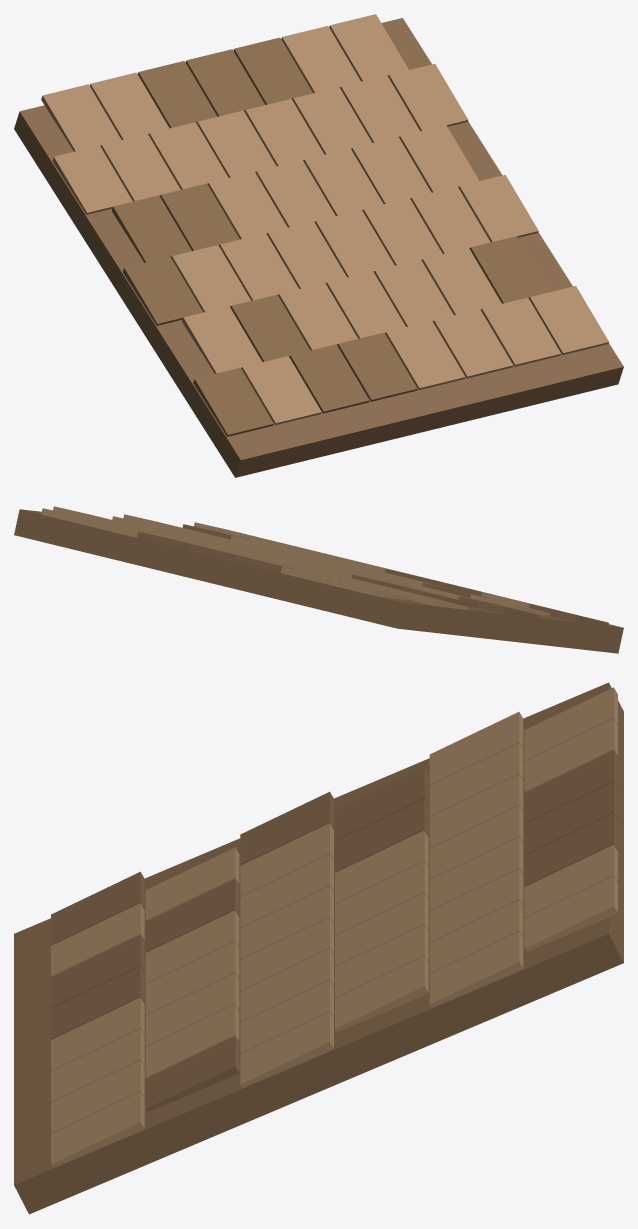
Rendered from SM_Roof_Shingle.glb.
3 views of the same model, one above another, from view 1: azimuth 30°, elevation 25°; view 2: azimuth 150°, elevation 25°; view 3: azimuth 270°, elevation 25° (orthographic). The views are drawn at different scales.
Visible parts, largest first — view 1: SM_Roof_Shingle; view 2: SM_Roof_Shingle; view 3: SM_Roof_Shingle.
Boxes of the visible parts, left/top/right/bottom form: SM_Roof_Shingle: left=14, top=14, right=623, bottom=477; SM_Roof_Shingle: left=14, top=506, right=623, bottom=653; SM_Roof_Shingle: left=14, top=682, right=623, bottom=1214.
Size of the model in its own units: 2 by 1.08 by 2.05.
